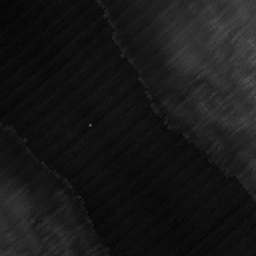Target: (87, 122, 93, 128)
